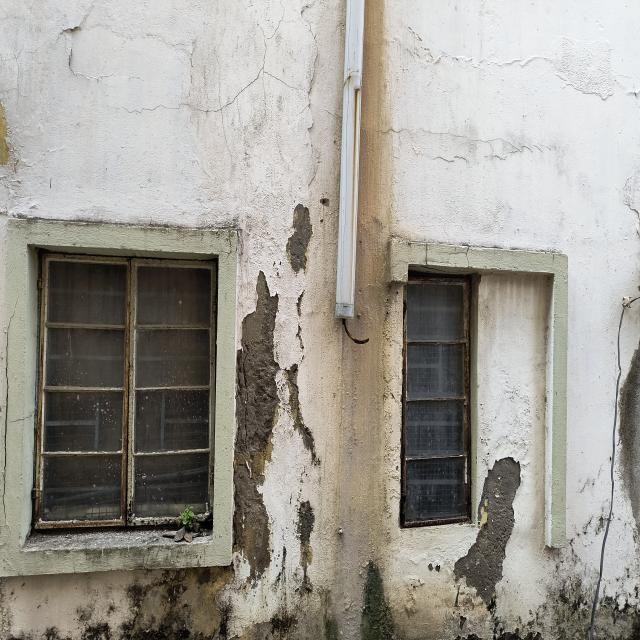Corrosion: (34, 260, 215, 529)
Crack: (111, 16, 299, 195), (1, 289, 20, 534), (419, 244, 476, 274), (260, 5, 296, 41), (440, 246, 471, 268), (8, 411, 34, 424)
Incomplete Plaster Work: (615, 327, 640, 568)
Paint Peeling: (0, 103, 9, 165)
Scaling: (233, 272, 280, 580), (454, 458, 520, 610), (479, 367, 533, 470), (54, 4, 120, 86), (296, 0, 320, 172), (407, 45, 553, 71), (285, 365, 315, 461), (286, 204, 312, 273), (297, 501, 315, 575), (296, 289, 306, 319), (295, 322, 305, 351)
pollution -moisture induced blackening: (478, 547, 640, 640), (116, 569, 235, 640), (358, 558, 406, 640), (75, 588, 118, 640), (310, 587, 342, 640), (248, 610, 297, 640), (40, 626, 72, 640)
